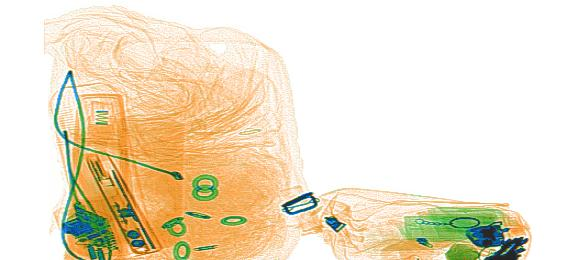plasticBottleWithaNozzle: (69, 88, 141, 256)
